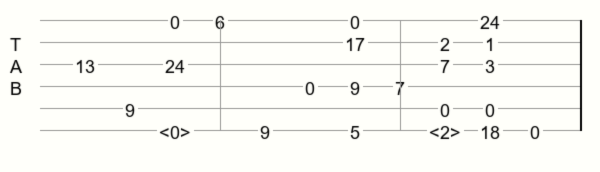0: (170, 12, 184, 29), (305, 78, 319, 95), (350, 12, 364, 29), (440, 100, 454, 117), (485, 100, 499, 117), (530, 122, 544, 139)
1: (485, 34, 499, 51)
13: (75, 56, 99, 73)
17: (345, 34, 369, 51)
18: (480, 122, 504, 139)
2: (440, 34, 454, 51)
24: (165, 56, 189, 73), (480, 12, 504, 29)
3: (485, 56, 499, 73)
5: (350, 122, 364, 139)
6: (215, 12, 229, 29)
7: (395, 78, 409, 95), (440, 56, 454, 73)
9: (125, 100, 139, 117), (260, 122, 274, 139), (350, 78, 364, 95)
harmonic: (159, 122, 195, 139), (429, 122, 465, 139)
